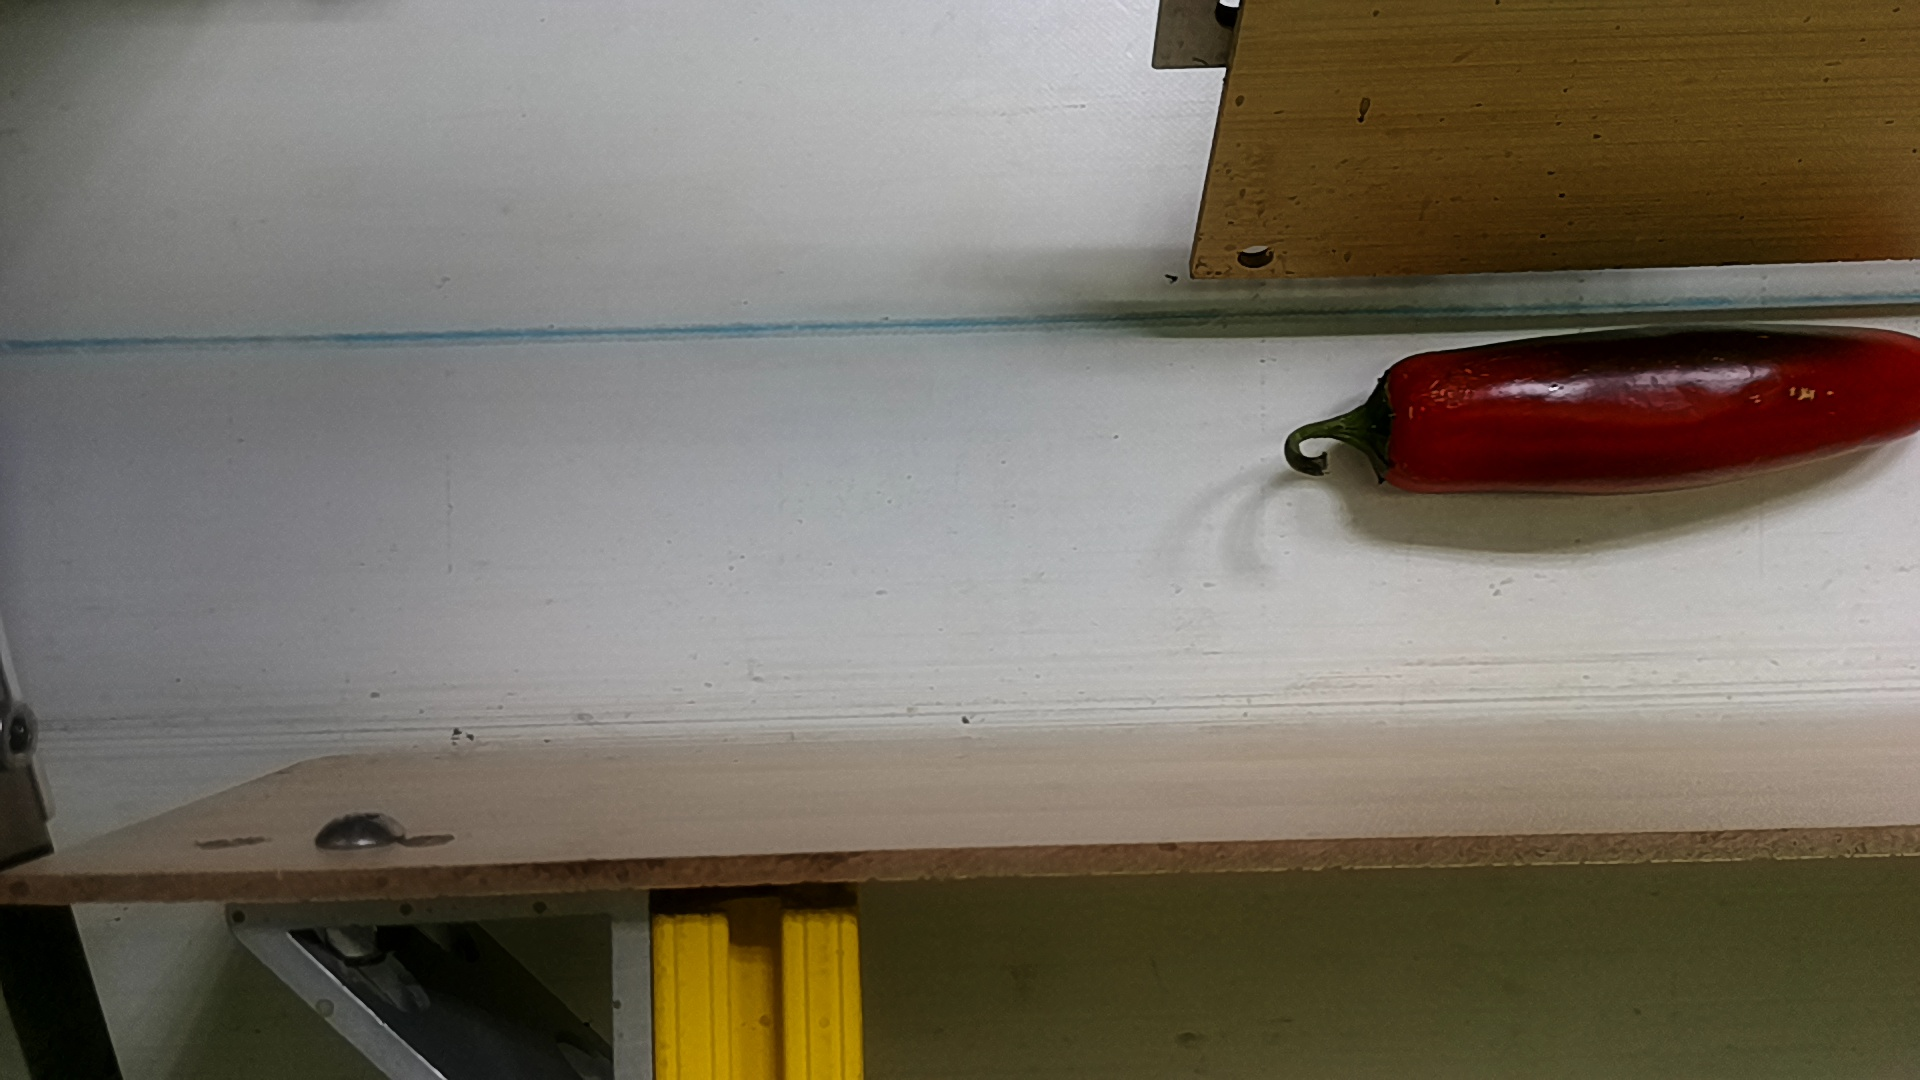Cut Point: (1350, 349, 1435, 501)
